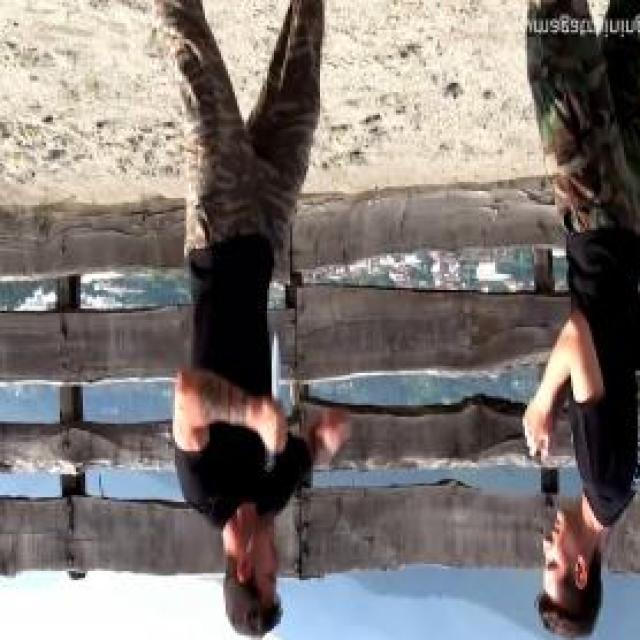knife: (265, 328, 288, 458)
